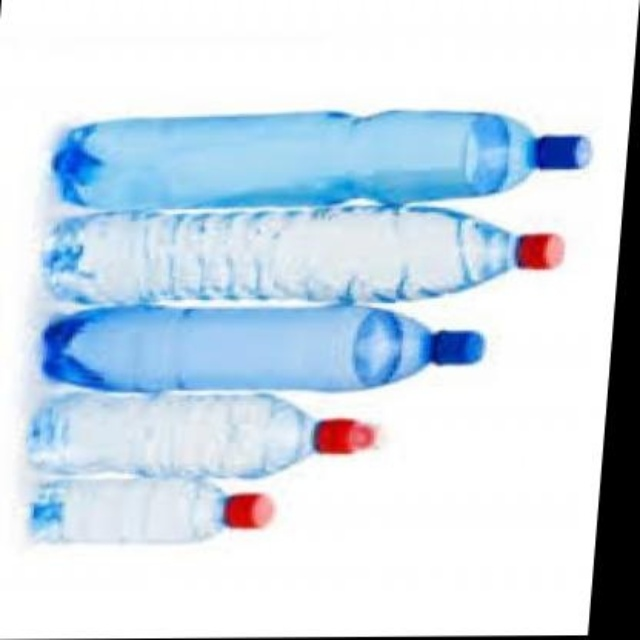trash: (52, 111, 535, 209), (43, 205, 514, 302), (43, 305, 483, 389), (28, 392, 311, 475), (29, 477, 272, 542)
